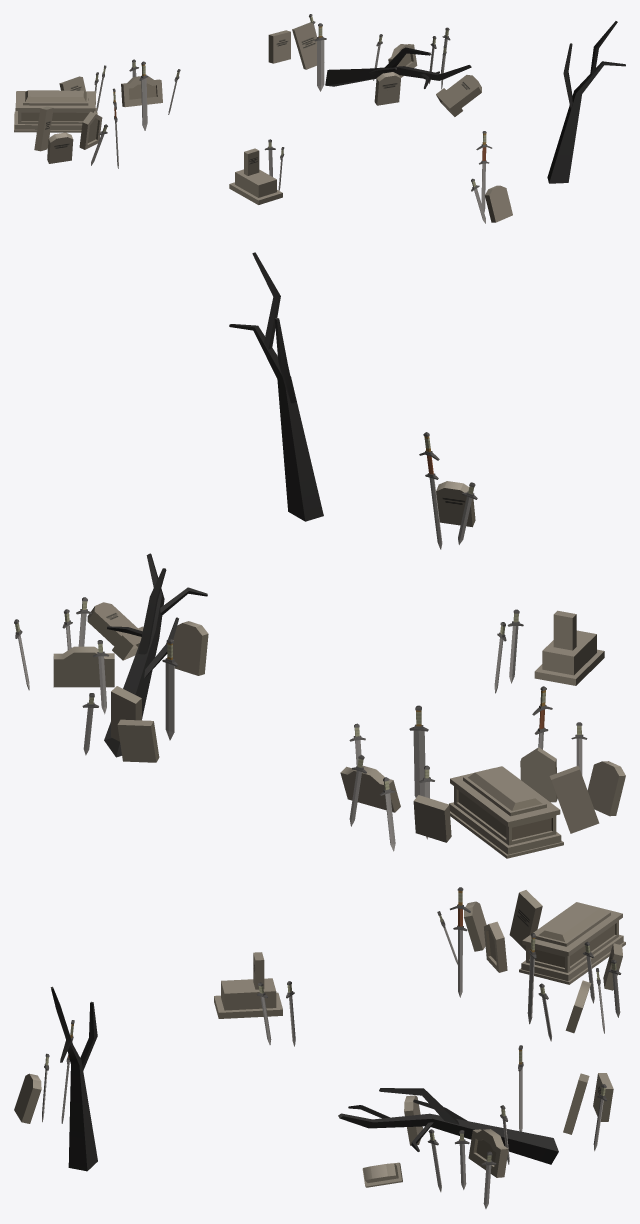
Rendered from SF_Env_Undead_Preset_05.fbx.
The picture shows the model from 3 angles, top to bottom: view 1: azimuth 30°, elevation 25°; view 2: azimuth 150°, elevation 25°; view 3: azimuth 270°, elevation 25°; orthographic projection. The views are drawn at different scales.
Visible parts, largest first — view 1: SF_Env_Undead_Preset_05; view 2: SF_Env_Undead_Preset_05; view 3: SF_Env_Undead_Preset_05.
Boxes of the visible parts, x1=… form: SF_Env_Undead_Preset_05: x1=14, y1=14, x2=625, y2=223; SF_Env_Undead_Preset_05: x1=14, y1=252, x2=625, y2=858; SF_Env_Undead_Preset_05: x1=14, y1=887, x2=625, y2=1208.
Bounding box in the file's own units: 20.47 × 8.36 × 19.38.
